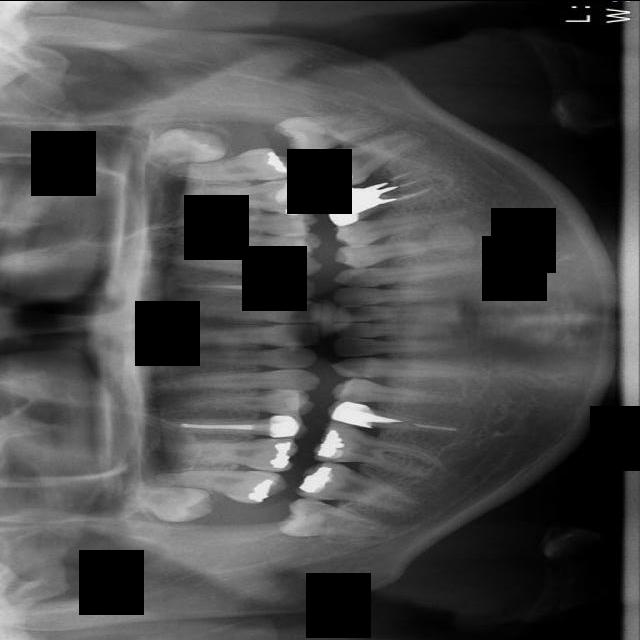3M ESPE Implant: (122, 485, 212, 523)
52: (303, 141, 369, 197), (296, 451, 352, 511), (314, 417, 370, 475), (318, 176, 375, 231), (229, 468, 287, 506), (263, 177, 312, 215), (327, 396, 379, 430), (242, 146, 294, 179), (248, 436, 294, 473), (269, 413, 305, 439)
73: (359, 162, 441, 218), (370, 407, 460, 445), (158, 415, 271, 440), (187, 271, 276, 297), (550, 62, 556, 68)
BioHorizons Implant: (167, 143, 298, 185)
BioLife Implant: (147, 125, 228, 166)
Biomet 3i Implant: (271, 106, 393, 159)
Blue Sky Bio Implant: (303, 128, 427, 194)
Caries: (150, 462, 287, 505)
Implant: (296, 460, 420, 516)
Keystone Dental Implant: (276, 494, 390, 548)
